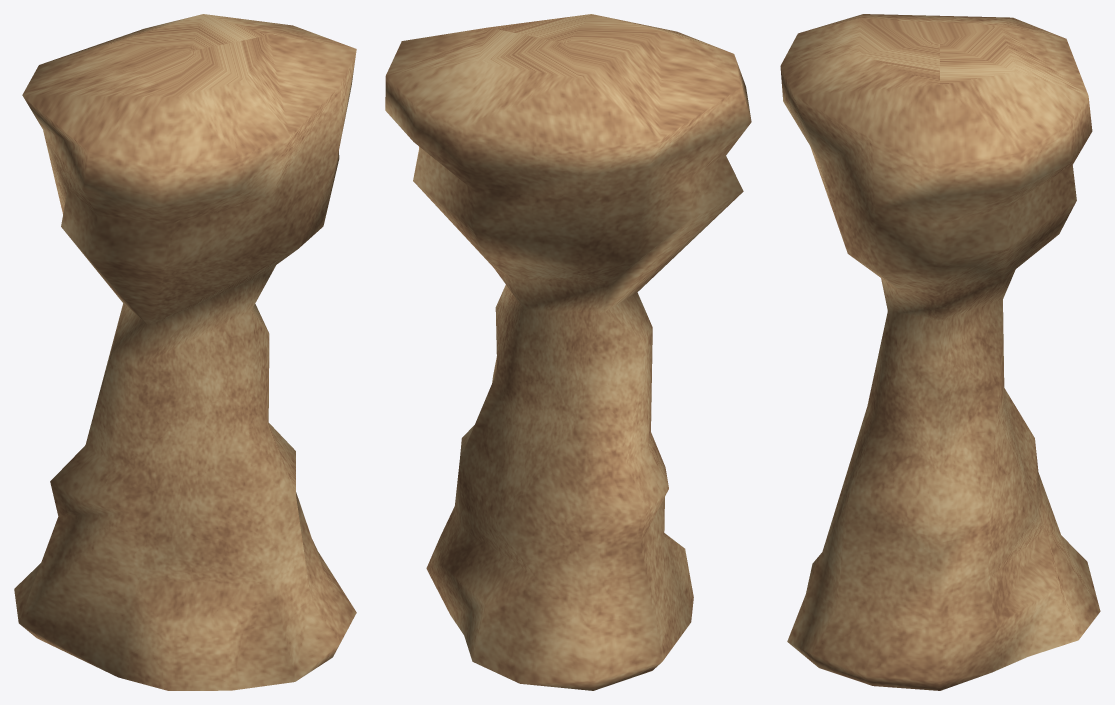
File: rock_desert_hoodoo_a_lod2.glb
The picture shows the model from 3 angles, left to right: view 1: azimuth 30°, elevation 25°; view 2: azimuth 150°, elevation 25°; view 3: azimuth 270°, elevation 25°; orthographic projection.
Visible parts, largest first — view 1: rock_desert_hoodoo_a; view 2: rock_desert_hoodoo_a; view 3: rock_desert_hoodoo_a.
Part boxes in pixels (left/top/right/bottom): rock_desert_hoodoo_a: left=14, top=14, right=356, bottom=690; rock_desert_hoodoo_a: left=385, top=14, right=751, bottom=690; rock_desert_hoodoo_a: left=780, top=14, right=1100, bottom=690.
Size of the model in its own units: 2.1 by 3.72 by 1.85.
Materials: 1 (1 with a texture image).
